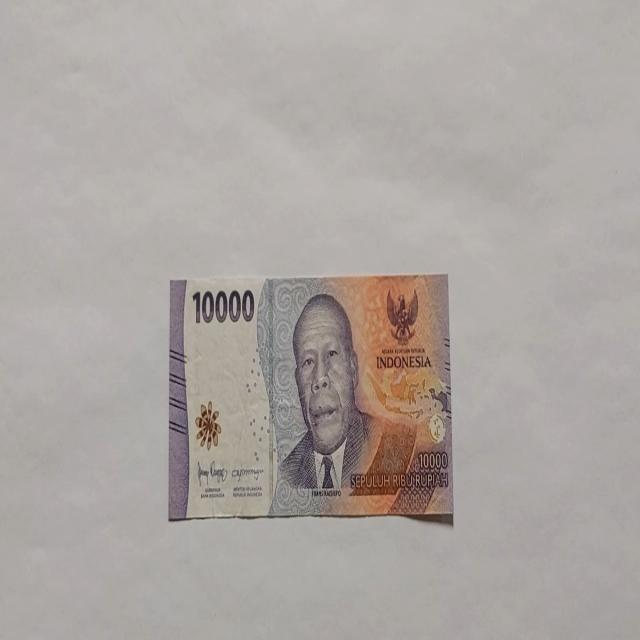sepuluh ribu rupiah: (168, 272, 453, 522), (267, 290, 416, 513)
